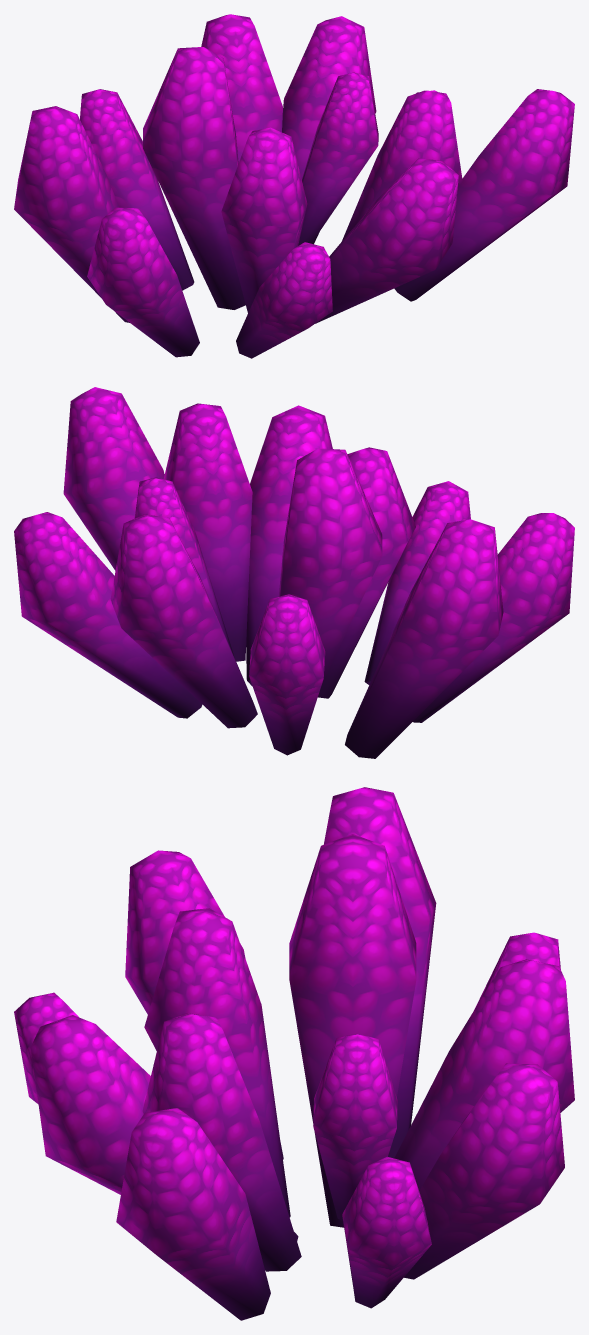
File: Coral_10c.FBX
The picture shows the model from 3 angles, top to bottom: view 1: azimuth 30°, elevation 25°; view 2: azimuth 150°, elevation 25°; view 3: azimuth 270°, elevation 25°; orthographic projection. The views are drawn at different scales.
Parts seen in each view (by area): view 1: Coral_10c; view 2: Coral_10c; view 3: Coral_10c.
Boxes of the visible parts, <box> form: Coral_10c: <box>14,14,574,358</box>; Coral_10c: <box>14,387,574,758</box>; Coral_10c: <box>14,787,574,1320</box>.
Size of the model in its own units: 46.71 by 25.41 by 34.9.
